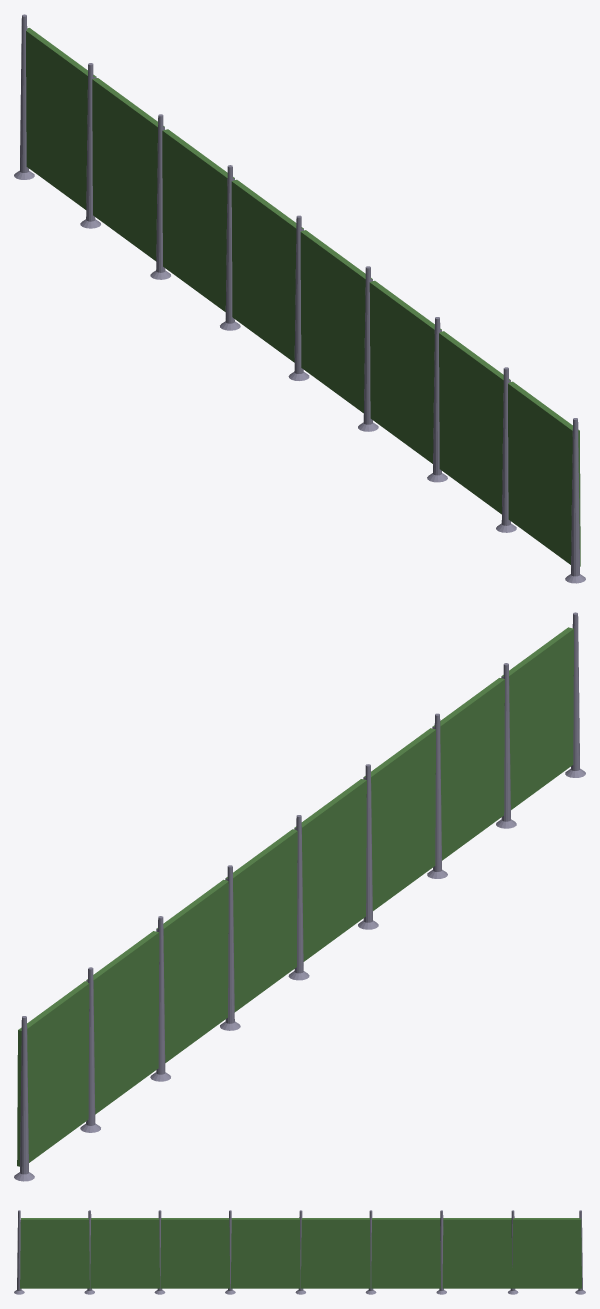
Rendered from SM_roof_border.fbx.
3 views of the same model, one above another, from view 1: azimuth 30°, elevation 25°; view 2: azimuth 150°, elevation 25°; view 3: azimuth 270°, elevation 25° (orthographic). The views are drawn at different scales.
Parts seen in each view (by area): view 1: ROOF BORDER square; view 2: ROOF BORDER square; view 3: ROOF BORDER square.
Part boxes in pixels (x1=…): ROOF BORDER square: x1=14, y1=14, x2=585, y2=583; ROOF BORDER square: x1=14, y1=612, x2=585, y2=1181; ROOF BORDER square: x1=14, y1=1210, x2=585, y2=1294.
Bounding box in the file's own units: 18.33 × 157 × 999.
